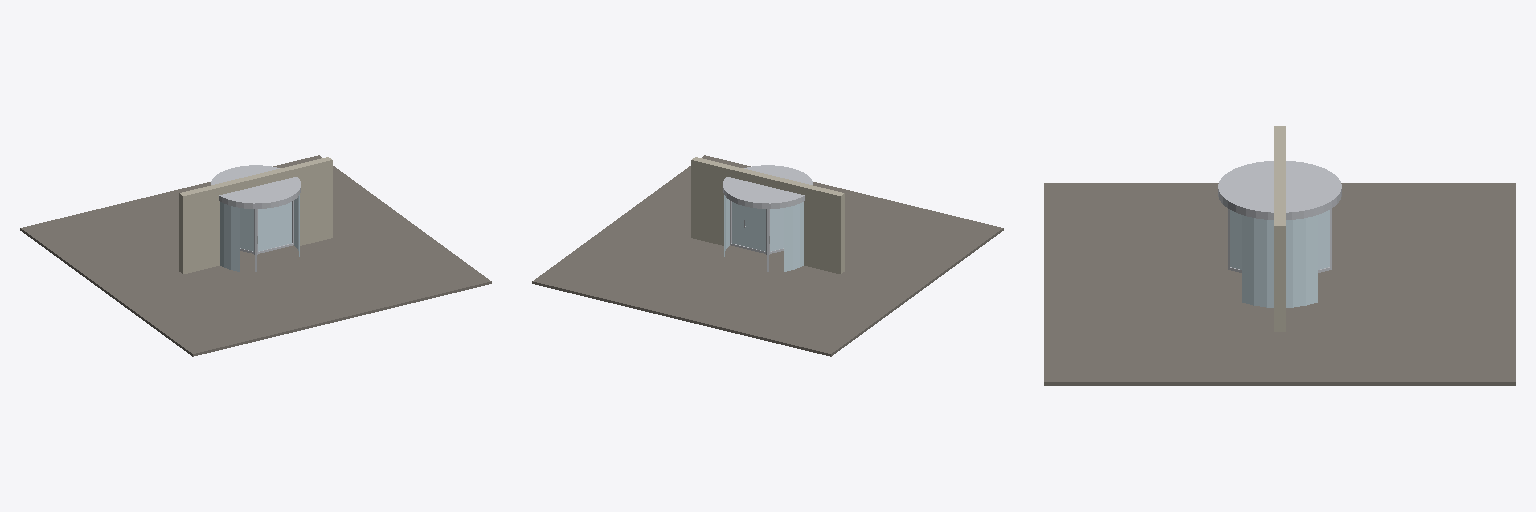
The robot description file, URDF, robot "db0066_revolving_simple":
<?xml version="1.0" ?>
<robot xmlns:doorbench="https://github.com/adamraudonis/DoorBench/schema/urdf-ext" name="db0066_revolving_simple">
  <link name="world_env">
    <visual name="floor_vis">
      <origin xyz="0 0 -0.05" rpy="0 0 0"/>
      <geometry>
        <box size="12 12 0.1"/>
      </geometry>
      <material name="mat_floor"/>
    </visual>
    <collision name="floor_col">
      <origin xyz="0 0 -0.05" rpy="0 0 0"/>
      <geometry>
        <box size="12 12 0.1"/>
      </geometry>
    </collision>
    <visual name="wall_left_vis">
      <origin xyz="-2.275 0 1.5" rpy="0 0 0"/>
      <geometry>
        <box size="1.45 0.3 3"/>
      </geometry>
      <material name="mat_wall"/>
    </visual>
    <collision name="wall_left_col">
      <origin xyz="-2.275 0 1.5" rpy="0 0 0"/>
      <geometry>
        <box size="1.45 0.3 3"/>
      </geometry>
    </collision>
    <visual name="wall_right_vis">
      <origin xyz="2.275 0 1.5" rpy="0 0 0"/>
      <geometry>
        <box size="1.45 0.3 3"/>
      </geometry>
      <material name="mat_wall"/>
    </visual>
    <collision name="wall_right_col">
      <origin xyz="2.275 0 1.5" rpy="0 0 0"/>
      <geometry>
        <box size="1.45 0.3 3"/>
      </geometry>
    </collision>
    <visual name="wall_header_vis">
      <origin xyz="0 0 2.85" rpy="0 0 0"/>
      <geometry>
        <box size="3.1 0.3 0.3"/>
      </geometry>
      <material name="mat_wall"/>
    </visual>
    <collision name="wall_header_col">
      <origin xyz="0 0 2.85" rpy="0 0 0"/>
      <geometry>
        <box size="3.1 0.3 0.3"/>
      </geometry>
    </collision>
    <visual name="drum_0_vis">
      <origin xyz="1.510443 0.170186 1.2425" rpy="0 0 1.682996"/>
      <geometry>
        <box size="0.345087 0.012 2.485"/>
      </geometry>
      <material name="mat_drum_glass"/>
    </visual>
    <collision name="drum_0_col">
      <origin xyz="1.510443 0.170186 1.2425" rpy="0 0 1.682996"/>
      <geometry>
        <box size="0.345087 0.012 2.485"/>
      </geometry>
    </collision>
    <visual name="drum_1_vis">
      <origin xyz="1.434703 0.502024 1.2425" rpy="0 0 1.907396"/>
      <geometry>
        <box size="0.345087 0.012 2.485"/>
      </geometry>
      <material name="mat_drum_glass"/>
    </visual>
    <collision name="drum_1_col">
      <origin xyz="1.434703 0.502024 1.2425" rpy="0 0 1.907396"/>
      <geometry>
        <box size="0.345087 0.012 2.485"/>
      </geometry>
    </collision>
    <visual name="drum_2_vis">
      <origin xyz="1.287021 0.808689 1.2425" rpy="0 0 2.131795"/>
      <geometry>
        <box size="0.345087 0.012 2.485"/>
      </geometry>
      <material name="mat_drum_glass"/>
    </visual>
    <collision name="drum_2_col">
      <origin xyz="1.287021 0.808689 1.2425" rpy="0 0 2.131795"/>
      <geometry>
        <box size="0.345087 0.012 2.485"/>
      </geometry>
    </collision>
    <visual name="drum_11_vis">
      <origin xyz="-1.287021 0.808689 1.2425" rpy="0 0 -2.131795"/>
      <geometry>
        <box size="0.345087 0.012 2.485"/>
      </geometry>
      <material name="mat_drum_glass"/>
    </visual>
    <collision name="drum_11_col">
      <origin xyz="-1.287021 0.808689 1.2425" rpy="0 0 -2.131795"/>
      <geometry>
        <box size="0.345087 0.012 2.485"/>
      </geometry>
    </collision>
    <visual name="drum_12_vis">
      <origin xyz="-1.434703 0.502024 1.2425" rpy="0 0 -1.907396"/>
      <geometry>
        <box size="0.345087 0.012 2.485"/>
      </geometry>
      <material name="mat_drum_glass"/>
    </visual>
    <collision name="drum_12_col">
      <origin xyz="-1.434703 0.502024 1.2425" rpy="0 0 -1.907396"/>
      <geometry>
        <box size="0.345087 0.012 2.485"/>
      </geometry>
    </collision>
    <visual name="drum_13_vis">
      <origin xyz="-1.510443 0.170186 1.2425" rpy="0 0 -1.682996"/>
      <geometry>
        <box size="0.345087 0.012 2.485"/>
      </geometry>
      <material name="mat_drum_glass"/>
    </visual>
    <collision name="drum_13_col">
      <origin xyz="-1.510443 0.170186 1.2425" rpy="0 0 -1.682996"/>
      <geometry>
        <box size="0.345087 0.012 2.485"/>
      </geometry>
    </collision>
    <visual name="drum_14_vis">
      <origin xyz="-1.510443 -0.170186 1.2425" rpy="0 0 -1.458597"/>
      <geometry>
        <box size="0.345087 0.012 2.485"/>
      </geometry>
      <material name="mat_drum_glass"/>
    </visual>
    <collision name="drum_14_col">
      <origin xyz="-1.510443 -0.170186 1.2425" rpy="0 0 -1.458597"/>
      <geometry>
        <box size="0.345087 0.012 2.485"/>
      </geometry>
    </collision>
    <visual name="drum_15_vis">
      <origin xyz="-1.434703 -0.502024 1.2425" rpy="0 0 -1.234197"/>
      <geometry>
        <box size="0.345087 0.012 2.485"/>
      </geometry>
      <material name="mat_drum_glass"/>
    </visual>
    <collision name="drum_15_col">
      <origin xyz="-1.434703 -0.502024 1.2425" rpy="0 0 -1.234197"/>
      <geometry>
        <box size="0.345087 0.012 2.485"/>
      </geometry>
    </collision>
    <visual name="drum_16_vis">
      <origin xyz="-1.287021 -0.808689 1.2425" rpy="0 0 -1.009798"/>
      <geometry>
        <box size="0.345087 0.012 2.485"/>
      </geometry>
      <material name="mat_drum_glass"/>
    </visual>
    <collision name="drum_16_col">
      <origin xyz="-1.287021 -0.808689 1.2425" rpy="0 0 -1.009798"/>
      <geometry>
        <box size="0.345087 0.012 2.485"/>
      </geometry>
    </collision>
    <visual name="drum_25_vis">
      <origin xyz="1.287021 -0.808689 1.2425" rpy="0 0 1.009798"/>
      <geometry>
        <box size="0.345087 0.012 2.485"/>
      </geometry>
      <material name="mat_drum_glass"/>
    </visual>
    <collision name="drum_25_col">
      <origin xyz="1.287021 -0.808689 1.2425" rpy="0 0 1.009798"/>
      <geometry>
        <box size="0.345087 0.012 2.485"/>
      </geometry>
    </collision>
    <visual name="drum_26_vis">
      <origin xyz="1.434703 -0.502024 1.2425" rpy="0 0 1.234197"/>
      <geometry>
        <box size="0.345087 0.012 2.485"/>
      </geometry>
      <material name="mat_drum_glass"/>
    </visual>
    <collision name="drum_26_col">
      <origin xyz="1.434703 -0.502024 1.2425" rpy="0 0 1.234197"/>
      <geometry>
        <box size="0.345087 0.012 2.485"/>
      </geometry>
    </collision>
    <visual name="drum_27_vis">
      <origin xyz="1.510443 -0.170186 1.2425" rpy="0 0 1.458597"/>
      <geometry>
        <box size="0.345087 0.012 2.485"/>
      </geometry>
      <material name="mat_drum_glass"/>
    </visual>
    <collision name="drum_27_col">
      <origin xyz="1.510443 -0.170186 1.2425" rpy="0 0 1.458597"/>
      <geometry>
        <box size="0.345087 0.012 2.485"/>
      </geometry>
    </collision>
    <visual name="drum_canopy_vis">
      <origin xyz="0 0 2.5925" rpy="0 0 0"/>
      <geometry>
        <cylinder radius="1.58" length="0.215"/>
      </geometry>
      <material name="mat_frame"/>
    </visual>
    <collision name="drum_canopy_col">
      <origin xyz="0 0 2.5925" rpy="0 0 0"/>
      <geometry>
        <cylinder radius="1.58" length="0.215"/>
      </geometry>
    </collision>
    <visual name="rotor_top_bearing_vis">
      <origin xyz="0 0 2.482" rpy="0 0 0"/>
      <geometry>
        <cylinder radius="0.075" length="0.006"/>
      </geometry>
      <material name="mat_frame"/>
    </visual>
    <collision name="rotor_top_bearing_col">
      <origin xyz="0 0 2.482" rpy="0 0 0"/>
      <geometry>
        <cylinder radius="0.075" length="0.006"/>
      </geometry>
    </collision>
    <visual name="rotor_floor_pivot_vis">
      <origin xyz="0 0 0.009" rpy="0 0 0"/>
      <geometry>
        <cylinder radius="0.075" length="0.006"/>
      </geometry>
      <material name="mat_frame"/>
    </visual>
    <collision name="rotor_floor_pivot_col">
      <origin xyz="0 0 0.009" rpy="0 0 0"/>
      <geometry>
        <cylinder radius="0.075" length="0.006"/>
      </geometry>
    </collision>
  </link>
  <link name="rotor">
    <inertial>
      <origin xyz="0 0 1.245744" rpy="0 0 0"/>
      <mass value="267.65"/>
      <inertia ixx="279.931290791" ixy="0" ixz="0" iyy="279.931290791" iyz="0" izz="203.637323361"/>
    </inertial>
    <visual name="rotor_shaft_vis">
      <origin xyz="0 0 1.245" rpy="0 0 0"/>
      <geometry>
        <cylinder radius="0.06" length="2.45"/>
      </geometry>
      <material name="mat_frame"/>
    </visual>
    <collision name="rotor_shaft_col">
      <origin xyz="0 0 1.245" rpy="0 0 0"/>
      <geometry>
        <cylinder radius="0.06" length="2.45"/>
      </geometry>
    </collision>
    <visual name="rotor_pintle_b_vis">
      <origin xyz="0 0 0.016" rpy="0 0 0"/>
      <geometry>
        <cylinder radius="0.03" length="0.016"/>
      </geometry>
      <material name="mat_frame"/>
    </visual>
    <visual name="rotor_pintle_t_vis">
      <origin xyz="0 0 2.4745" rpy="0 0 0"/>
      <geometry>
        <cylinder radius="0.03" length="0.017"/>
      </geometry>
      <material name="mat_frame"/>
    </visual>
    <visual name="wing_0_glass_vis">
      <origin xyz="0.75 0 1.25" rpy="0 0 0"/>
      <geometry>
        <box size="1.46 0.01 2.3"/>
      </geometry>
      <material name="mat_drum_glass"/>
    </visual>
    <collision name="wing_0_glass_col">
      <origin xyz="0.75 0 1.25" rpy="0 0 0"/>
      <geometry>
        <box size="1.46 0.01 2.3"/>
      </geometry>
    </collision>
    <visual name="wing_0_stile_vis">
      <origin xyz="1.48 0 1.245" rpy="0 0 0"/>
      <geometry>
        <box size="0.04 0.06 2.45"/>
      </geometry>
      <material name="mat_frame"/>
    </visual>
    <collision name="wing_0_stile_col">
      <origin xyz="1.48 0 1.245" rpy="0 0 0"/>
      <geometry>
        <box size="0.04 0.06 2.45"/>
      </geometry>
    </collision>
    <visual name="wing_0_rail_b_vis">
      <origin xyz="0.73 0 0.06" rpy="0 0 0"/>
      <geometry>
        <box size="1.46 0.06 0.08"/>
      </geometry>
      <material name="mat_frame"/>
    </visual>
    <collision name="wing_0_rail_b_col">
      <origin xyz="0.73 0 0.06" rpy="0 0 0"/>
      <geometry>
        <box size="1.46 0.06 0.08"/>
      </geometry>
    </collision>
    <visual name="wing_0_rail_t_vis">
      <origin xyz="0.73 0 2.43" rpy="0 0 0"/>
      <geometry>
        <box size="1.46 0.06 0.08"/>
      </geometry>
      <material name="mat_frame"/>
    </visual>
    <collision name="wing_0_rail_t_col">
      <origin xyz="0.73 0 2.43" rpy="0 0 0"/>
      <geometry>
        <box size="1.46 0.06 0.08"/>
      </geometry>
    </collision>
    <visual name="wing_0_bar_vis">
      <origin xyz="0.9 0.055 1" rpy="0 0 0"/>
      <geometry>
        <cylinder radius="0.012" length="0.3"/>
      </geometry>
      <material name="mat_op_stainless"/>
    </visual>
    <collision name="wing_0_bar_col">
      <origin xyz="0.9 0.055 1" rpy="0 0 0"/>
      <geometry>
        <cylinder radius="0.012" length="0.3"/>
      </geometry>
    </collision>
    <visual name="wing_0_bar_stud_d_vis">
      <origin xyz="0.9 0.031 0.88" rpy="-1.570796 0 0"/>
      <geometry>
        <cylinder radius="0.009" length="0.056"/>
      </geometry>
      <material name="mat_op_stainless"/>
    </visual>
    <visual name="wing_0_bar_stud_u_vis">
      <origin xyz="0.9 0.031 1.12" rpy="-1.570796 0 0"/>
      <geometry>
        <cylinder radius="0.009" length="0.056"/>
      </geometry>
      <material name="mat_op_stainless"/>
    </visual>
    <visual name="wing_1_glass_vis">
      <origin xyz="-0.375 0.649519 1.25" rpy="0 0 2.094395"/>
      <geometry>
        <box size="1.46 0.01 2.3"/>
      </geometry>
      <material name="mat_drum_glass"/>
    </visual>
    <collision name="wing_1_glass_col">
      <origin xyz="-0.375 0.649519 1.25" rpy="0 0 2.094395"/>
      <geometry>
        <box size="1.46 0.01 2.3"/>
      </geometry>
    </collision>
    <visual name="wing_1_stile_vis">
      <origin xyz="-0.74 1.281718 1.245" rpy="0 0 2.094395"/>
      <geometry>
        <box size="0.04 0.06 2.45"/>
      </geometry>
      <material name="mat_frame"/>
    </visual>
    <collision name="wing_1_stile_col">
      <origin xyz="-0.74 1.281718 1.245" rpy="0 0 2.094395"/>
      <geometry>
        <box size="0.04 0.06 2.45"/>
      </geometry>
    </collision>
    <visual name="wing_1_rail_b_vis">
      <origin xyz="-0.365 0.632199 0.06" rpy="0 0 2.094395"/>
      <geometry>
        <box size="1.46 0.06 0.08"/>
      </geometry>
      <material name="mat_frame"/>
    </visual>
    <collision name="wing_1_rail_b_col">
      <origin xyz="-0.365 0.632199 0.06" rpy="0 0 2.094395"/>
      <geometry>
        <box size="1.46 0.06 0.08"/>
      </geometry>
    </collision>
    <visual name="wing_1_rail_t_vis">
      <origin xyz="-0.365 0.632199 2.43" rpy="0 0 2.094395"/>
      <geometry>
        <box size="1.46 0.06 0.08"/>
      </geometry>
      <material name="mat_frame"/>
    </visual>
    <collision name="wing_1_rail_t_col">
      <origin xyz="-0.365 0.632199 2.43" rpy="0 0 2.094395"/>
      <geometry>
        <box size="1.46 0.06 0.08"/>
      </geometry>
    </collision>
    <visual name="wing_1_bar_vis">
      <origin xyz="-0.497631 0.751923 1" rpy="0 0 0"/>
      <geometry>
        <cylinder radius="0.012" length="0.3"/>
      </geometry>
      <material name="mat_op_stainless"/>
    </visual>
    <collision name="wing_1_bar_col">
      <origin xyz="-0.497631 0.751923 1" rpy="0 0 0"/>
      <geometry>
        <cylinder radius="0.012" length="0.3"/>
      </geometry>
    </collision>
    <visual name="wing_1_bar_stud_d_vis">
      <origin xyz="-0.476847 0.763923 0.88" rpy="1.570796 -1.047198 -1.047198"/>
      <geometry>
        <cylinder radius="0.009" length="0.056"/>
      </geometry>
      <material name="mat_op_stainless"/>
    </visual>
    <visual name="wing_1_bar_stud_u_vis">
      <origin xyz="-0.476847 0.763923 1.12" rpy="1.570796 -1.047198 -1.047198"/>
      <geometry>
        <cylinder radius="0.009" length="0.056"/>
      </geometry>
      <material name="mat_op_stainless"/>
    </visual>
    <visual name="wing_2_glass_vis">
      <origin xyz="-0.375 -0.649519 1.25" rpy="0 0 -2.094395"/>
      <geometry>
        <box size="1.46 0.01 2.3"/>
      </geometry>
      <material name="mat_drum_glass"/>
    </visual>
    <collision name="wing_2_glass_col">
      <origin xyz="-0.375 -0.649519 1.25" rpy="0 0 -2.094395"/>
      <geometry>
        <box size="1.46 0.01 2.3"/>
      </geometry>
    </collision>
    <visual name="wing_2_stile_vis">
      <origin xyz="-0.74 -1.281718 1.245" rpy="0 0 -2.094395"/>
      <geometry>
        <box size="0.04 0.06 2.45"/>
      </geometry>
      <material name="mat_frame"/>
    </visual>
    <collision name="wing_2_stile_col">
      <origin xyz="-0.74 -1.281718 1.245" rpy="0 0 -2.094395"/>
      <geometry>
        <box size="0.04 0.06 2.45"/>
      </geometry>
    </collision>
    <visual name="wing_2_rail_b_vis">
      <origin xyz="-0.365 -0.632199 0.06" rpy="0 0 -2.094395"/>
      <geometry>
        <box size="1.46 0.06 0.08"/>
      </geometry>
      <material name="mat_frame"/>
    </visual>
    <collision name="wing_2_rail_b_col">
      <origin xyz="-0.365 -0.632199 0.06" rpy="0 0 -2.094395"/>
      <geometry>
        <box size="1.46 0.06 0.08"/>
      </geometry>
    </collision>
    <visual name="wing_2_rail_t_vis">
      <origin xyz="-0.365 -0.632199 2.43" rpy="0 0 -2.094395"/>
      <geometry>
        <box size="1.46 0.06 0.08"/>
      </geometry>
      <material name="mat_frame"/>
    </visual>
    <collision name="wing_2_rail_t_col">
      <origin xyz="-0.365 -0.632199 2.43" rpy="0 0 -2.094395"/>
      <geometry>
        <box size="1.46 0.06 0.08"/>
      </geometry>
    </collision>
    <visual name="wing_2_bar_vis">
      <origin xyz="-0.402369 -0.806923 1" rpy="0 0 0"/>
      <geometry>
        <cylinder radius="0.012" length="0.3"/>
      </geometry>
      <material name="mat_op_stainless"/>
    </visual>
    <collision name="wing_2_bar_col">
      <origin xyz="-0.402369 -0.806923 1" rpy="0 0 0"/>
      <geometry>
        <cylinder radius="0.012" length="0.3"/>
      </geometry>
    </collision>
    <visual name="wing_2_bar_stud_d_vis">
      <origin xyz="-0.423153 -0.794923 0.88" rpy="1.570796 1.047198 1.047198"/>
      <geometry>
        <cylinder radius="0.009" length="0.056"/>
      </geometry>
      <material name="mat_op_stainless"/>
    </visual>
    <visual name="wing_2_bar_stud_u_vis">
      <origin xyz="-0.423153 -0.794923 1.12" rpy="1.570796 1.047198 1.047198"/>
      <geometry>
        <cylinder radius="0.009" length="0.056"/>
      </geometry>
      <material name="mat_op_stainless"/>
    </visual>
  </link>
  <joint name="rotor_hinge" type="continuous">
    <origin xyz="0 0 0" rpy="0 0 0"/>
    <parent link="world_env"/>
    <child link="rotor"/>
    <axis xyz="0 0 1"/>
    <dynamics damping="38" friction="5.559261"/>
  </joint>
  <material name="mat_drum_glass">
    <color rgba="0.85 0.92 0.95 0.25"/>
  </material>
  <material name="mat_floor">
    <color rgba="0.55 0.53 0.5 1"/>
  </material>
  <material name="mat_frame">
    <color rgba="0.8 0.81 0.83 1"/>
  </material>
  <material name="mat_op_stainless">
    <color rgba="0.75 0.76 0.77 1"/>
  </material>
  <material name="mat_wall">
    <color rgba="0.78 0.76 0.7 1"/>
  </material>
</robot>

--- What the picture shows (computed from the rendered views, not written in the file) ---
3 views of the same robot in one strip: view 1: azimuth 30°, elevation 25°; view 2: azimuth 150°, elevation 25°; view 3: azimuth 270°, elevation 25° (orthographic).
Robot: db0066_revolving_simple — 2 links, 1 joints (1 continuous); root link world_env; default pose: all joints at 0.
Links seen in each view (by area): view 1: world_env, rotor; view 2: world_env, rotor; view 3: world_env, rotor.
Boxes of the visible links, left/top/right/bottom form: world_env: left=20, top=155, right=491, bottom=356; rotor: left=240, top=201, right=293, bottom=271; world_env: left=532, top=155, right=1003, bottom=356; rotor: left=730, top=201, right=783, bottom=271; world_env: left=1044, top=126, right=1515, bottom=385; rotor: left=1228, top=209, right=1331, bottom=272.
Size in the robot's own frame: 12 by 12 by 3.1 metres.
Geometry: primitives only (box / cylinder / sphere), no mesh files.
